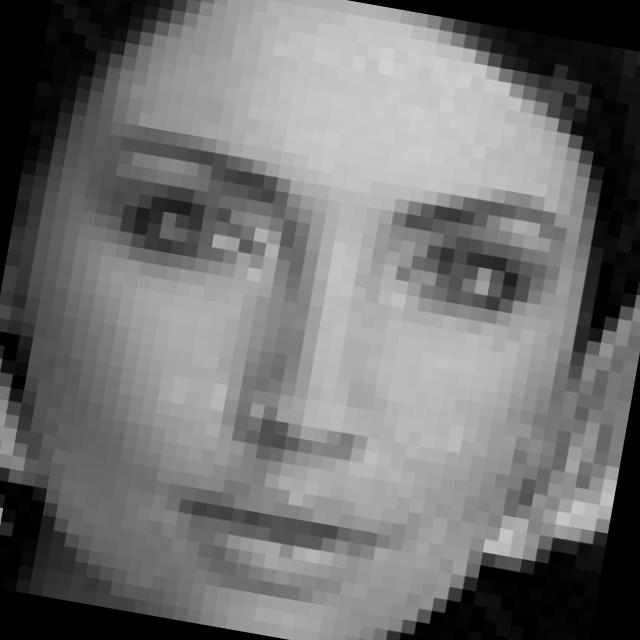neutral: (18, 111, 577, 640)
